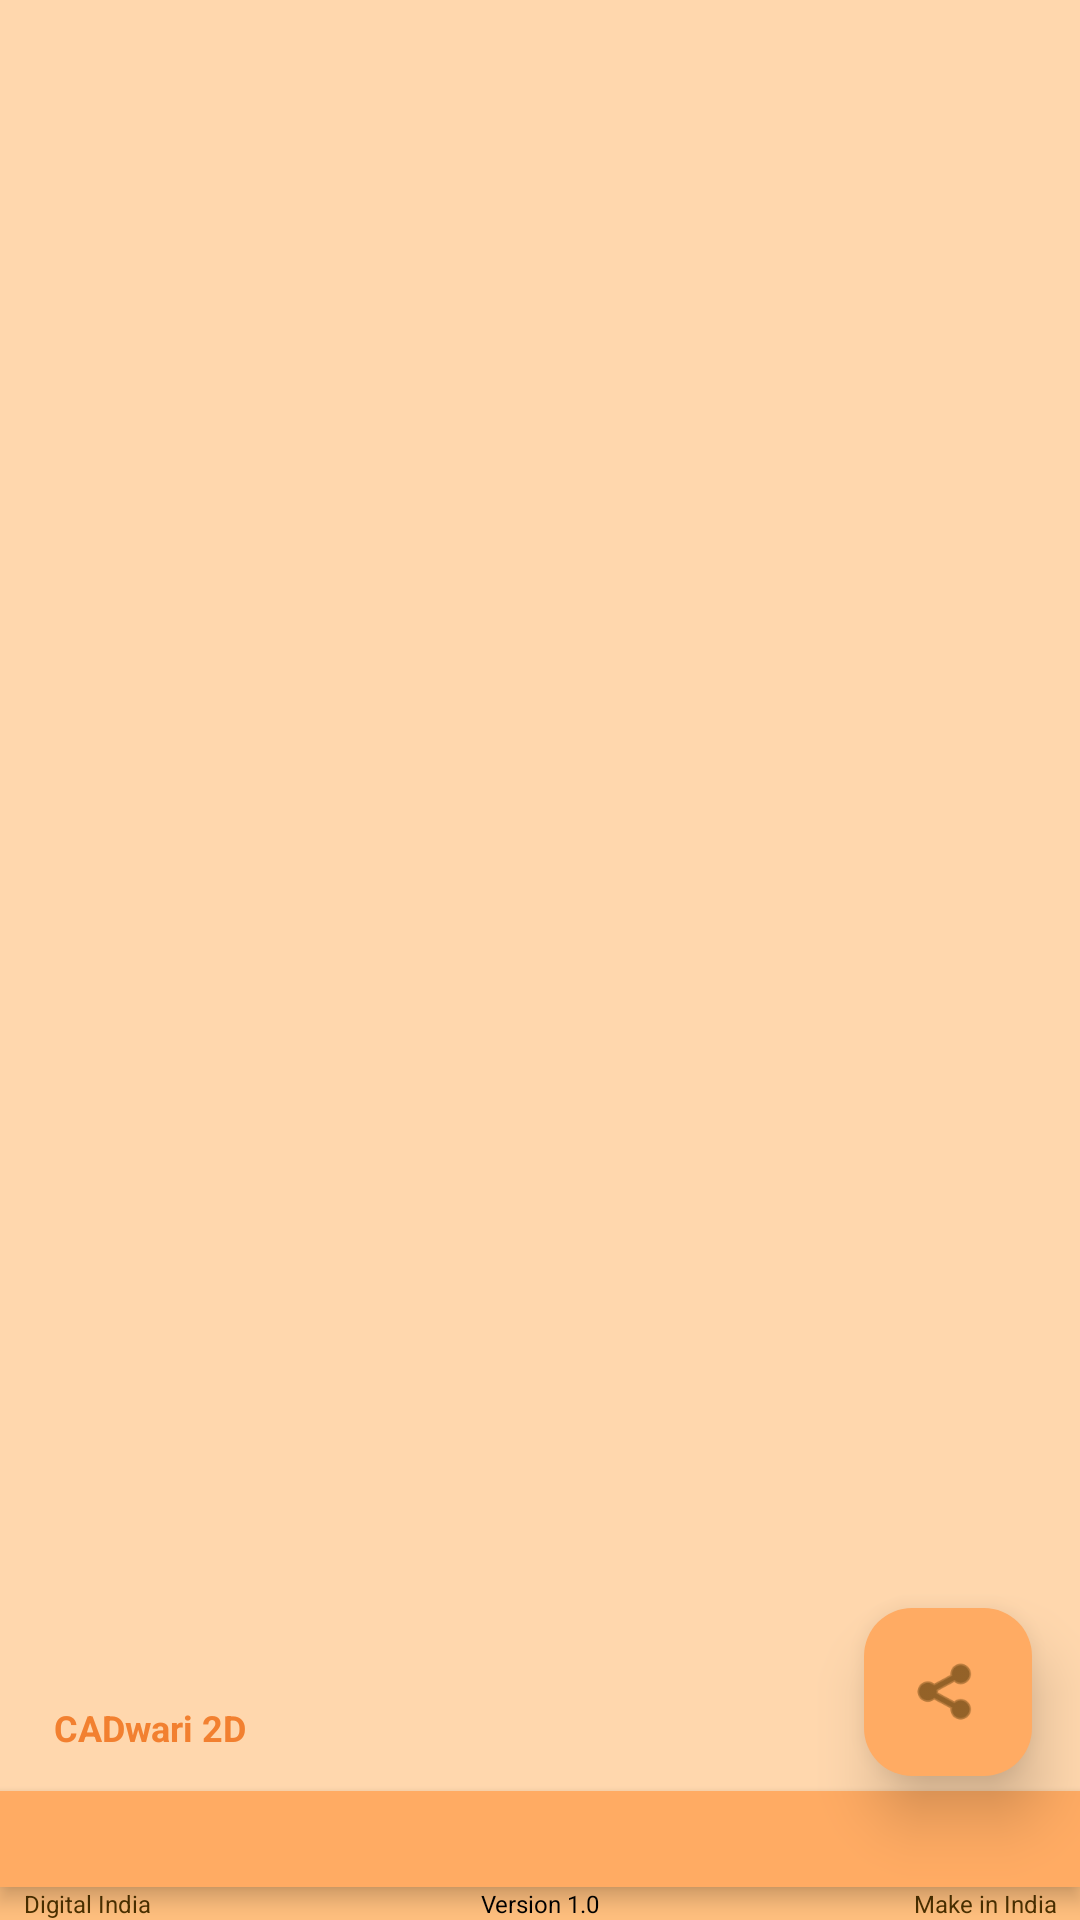

Where icons sit on this 1080 × 1920 app screen, as [x1,y1,x2,y2]:
Save / Share: [864,1608,1032,1776]
